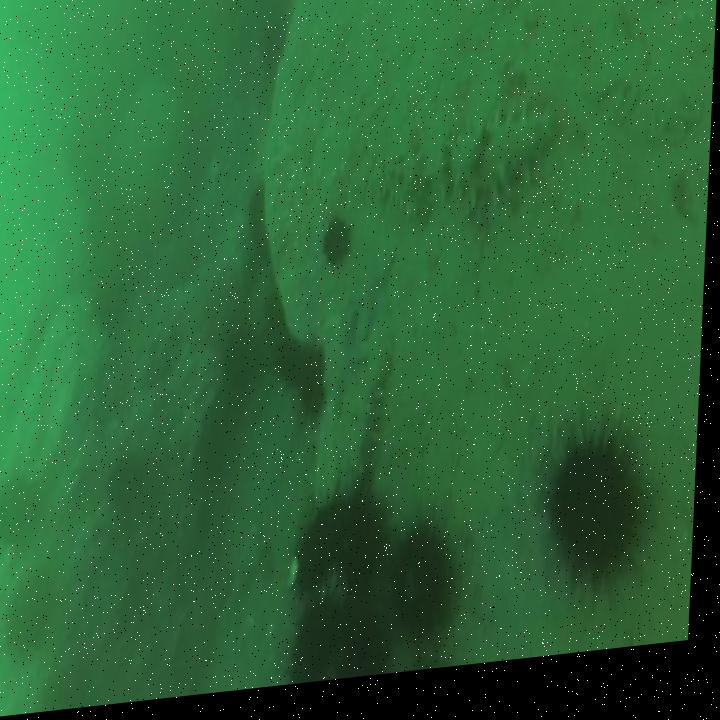echinus: (557, 454, 646, 591), (399, 536, 462, 649), (339, 587, 402, 683), (337, 497, 393, 587), (295, 606, 346, 690), (10, 573, 57, 659), (298, 516, 341, 596), (0, 473, 40, 550), (112, 457, 145, 515), (323, 220, 354, 277), (299, 360, 326, 422), (278, 342, 303, 387)
holothurian: (446, 125, 556, 218), (347, 348, 396, 485), (378, 159, 432, 238), (506, 0, 546, 23)
